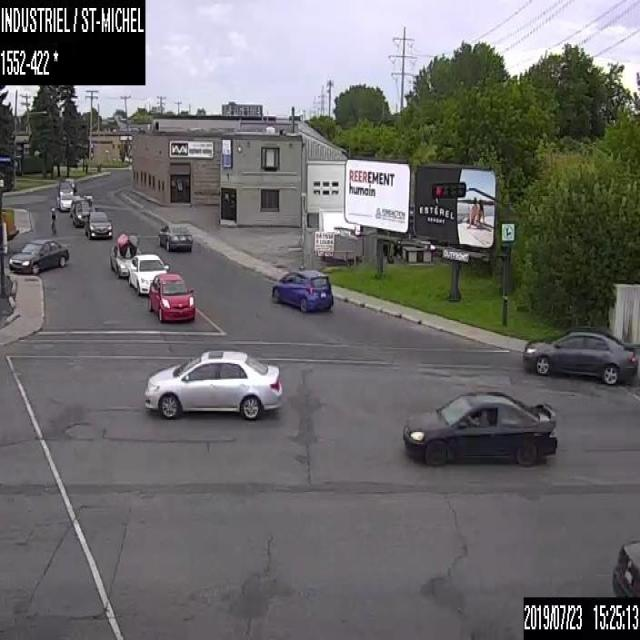cyclist: (49, 205, 56, 238)
vehicle: (400, 388, 557, 467), (142, 347, 282, 421), (521, 328, 637, 384), (269, 267, 334, 312), (7, 236, 69, 273), (148, 272, 195, 320), (609, 539, 639, 596), (128, 253, 168, 294), (108, 232, 142, 277), (157, 220, 192, 251), (83, 210, 111, 238), (71, 194, 95, 226), (56, 188, 74, 211), (58, 180, 72, 196), (64, 177, 76, 190)
